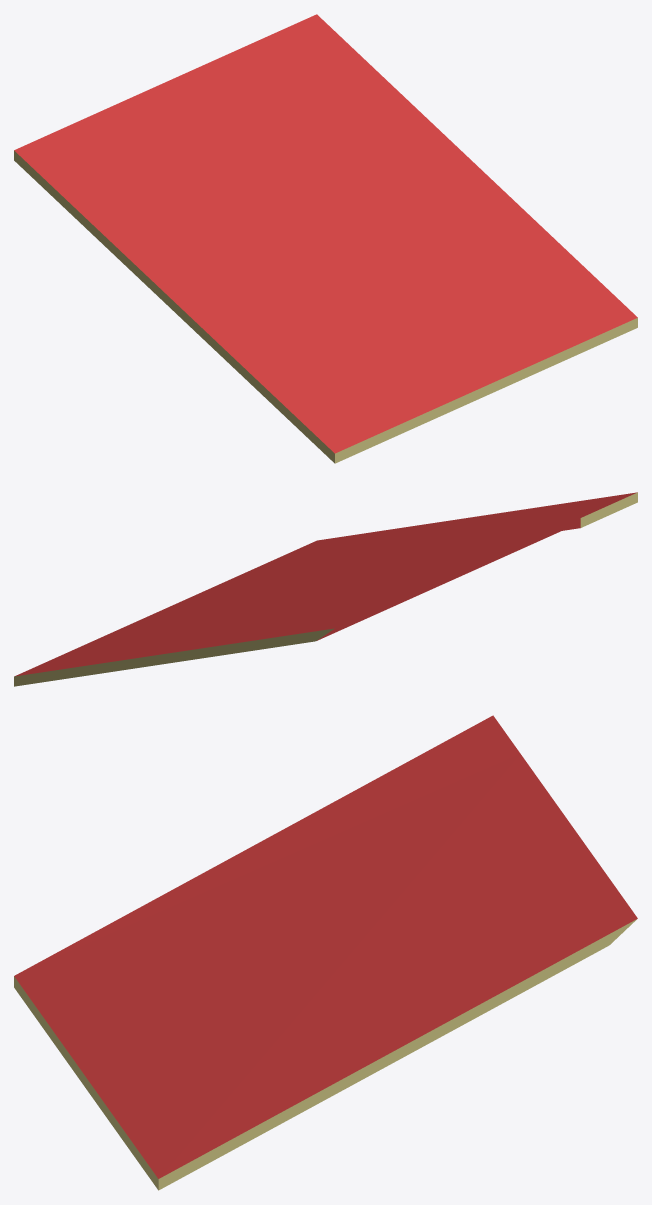
3 renders of one model, top to bottom at view 1: azimuth 30°, elevation 25°; view 2: azimuth 210°, elevation 25°; view 3: azimuth 270°, elevation 25°, orthographic. The views are drawn at different scales.
Bounding box in the file's own units: 4.94 × 4.93 × 1.84.
